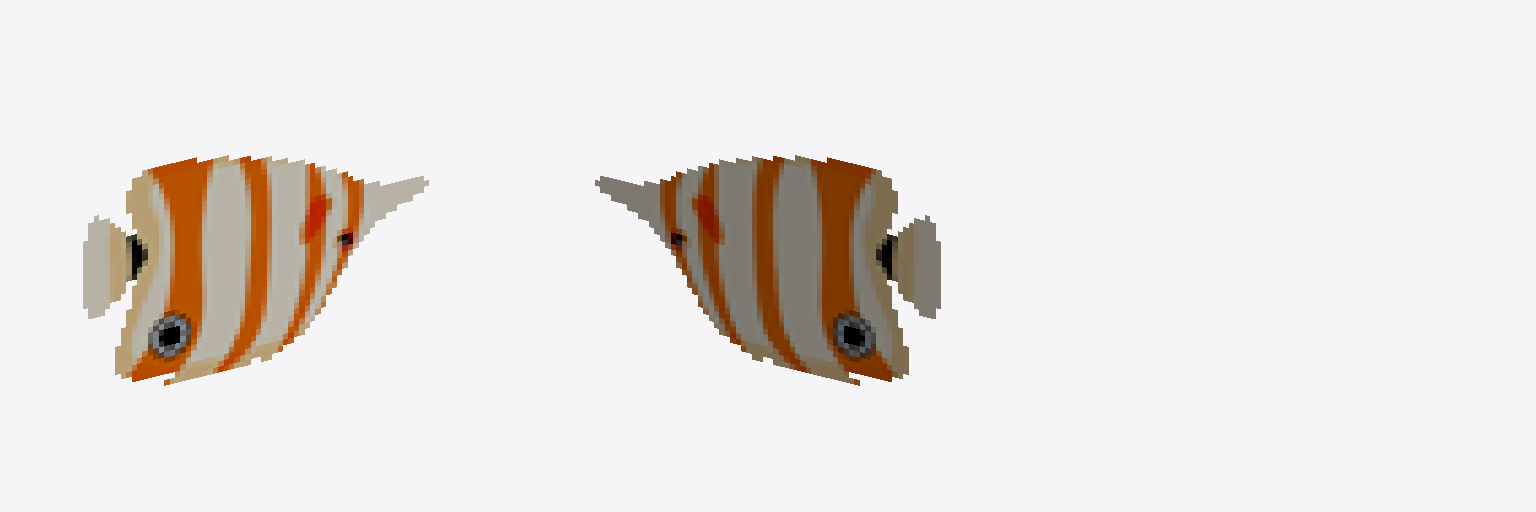
3 views of the same model, side by side, from view 1: azimuth 30°, elevation 25°; view 2: azimuth 150°, elevation 25°; view 3: azimuth 270°, elevation 25° (orthographic).
Visible parts, largest first — view 1: seafish1; view 2: seafish1; view 3: none.
Boxes of the visible parts, <box> form: seafish1: <box>83,155,428,385</box>; seafish1: <box>595,155,940,385</box>.
Bounding box in the file's own units: 4 × 2.5 × 0.
1 materials, 1 textured.